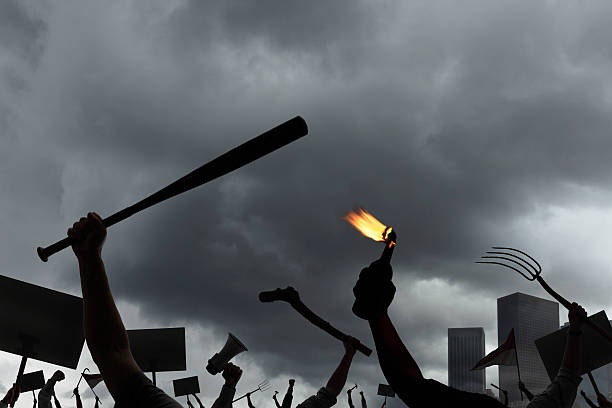bita: (33, 115, 312, 267)
